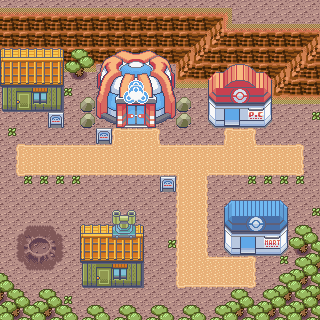misc: (95, 49, 177, 130)
normal_house: (78, 223, 145, 290), (1, 47, 65, 114)
pokemart: (222, 198, 290, 256)
pokemon_center: (206, 62, 274, 129)
